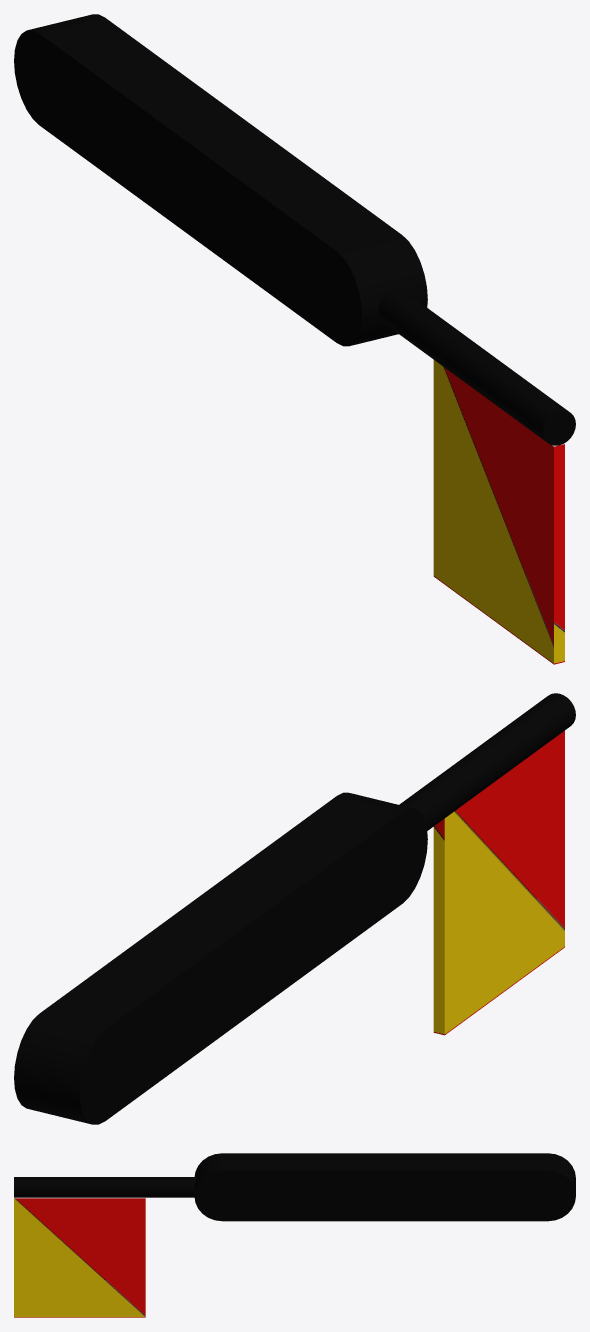
The model's file is semaphore_flag_man_arm2.dae.
3 renders of one model, top to bottom at view 1: azimuth 30°, elevation 25°; view 2: azimuth 150°, elevation 25°; view 3: azimuth 270°, elevation 25°, orthographic. The views are drawn at different scales.
Parts seen in each view (by area): view 1: SketchUp (×3); view 2: SketchUp (×3); view 3: SketchUp (×4).
Part boxes in pixels (x1,y1,x2,y2): SketchUp (×3): [14, 14, 575, 664]; SketchUp (×3): [14, 693, 575, 1124]; SketchUp (×4): [14, 1153, 575, 1317].
Size of the model in its own units: 0.75 by 10.12 by 3.06.
